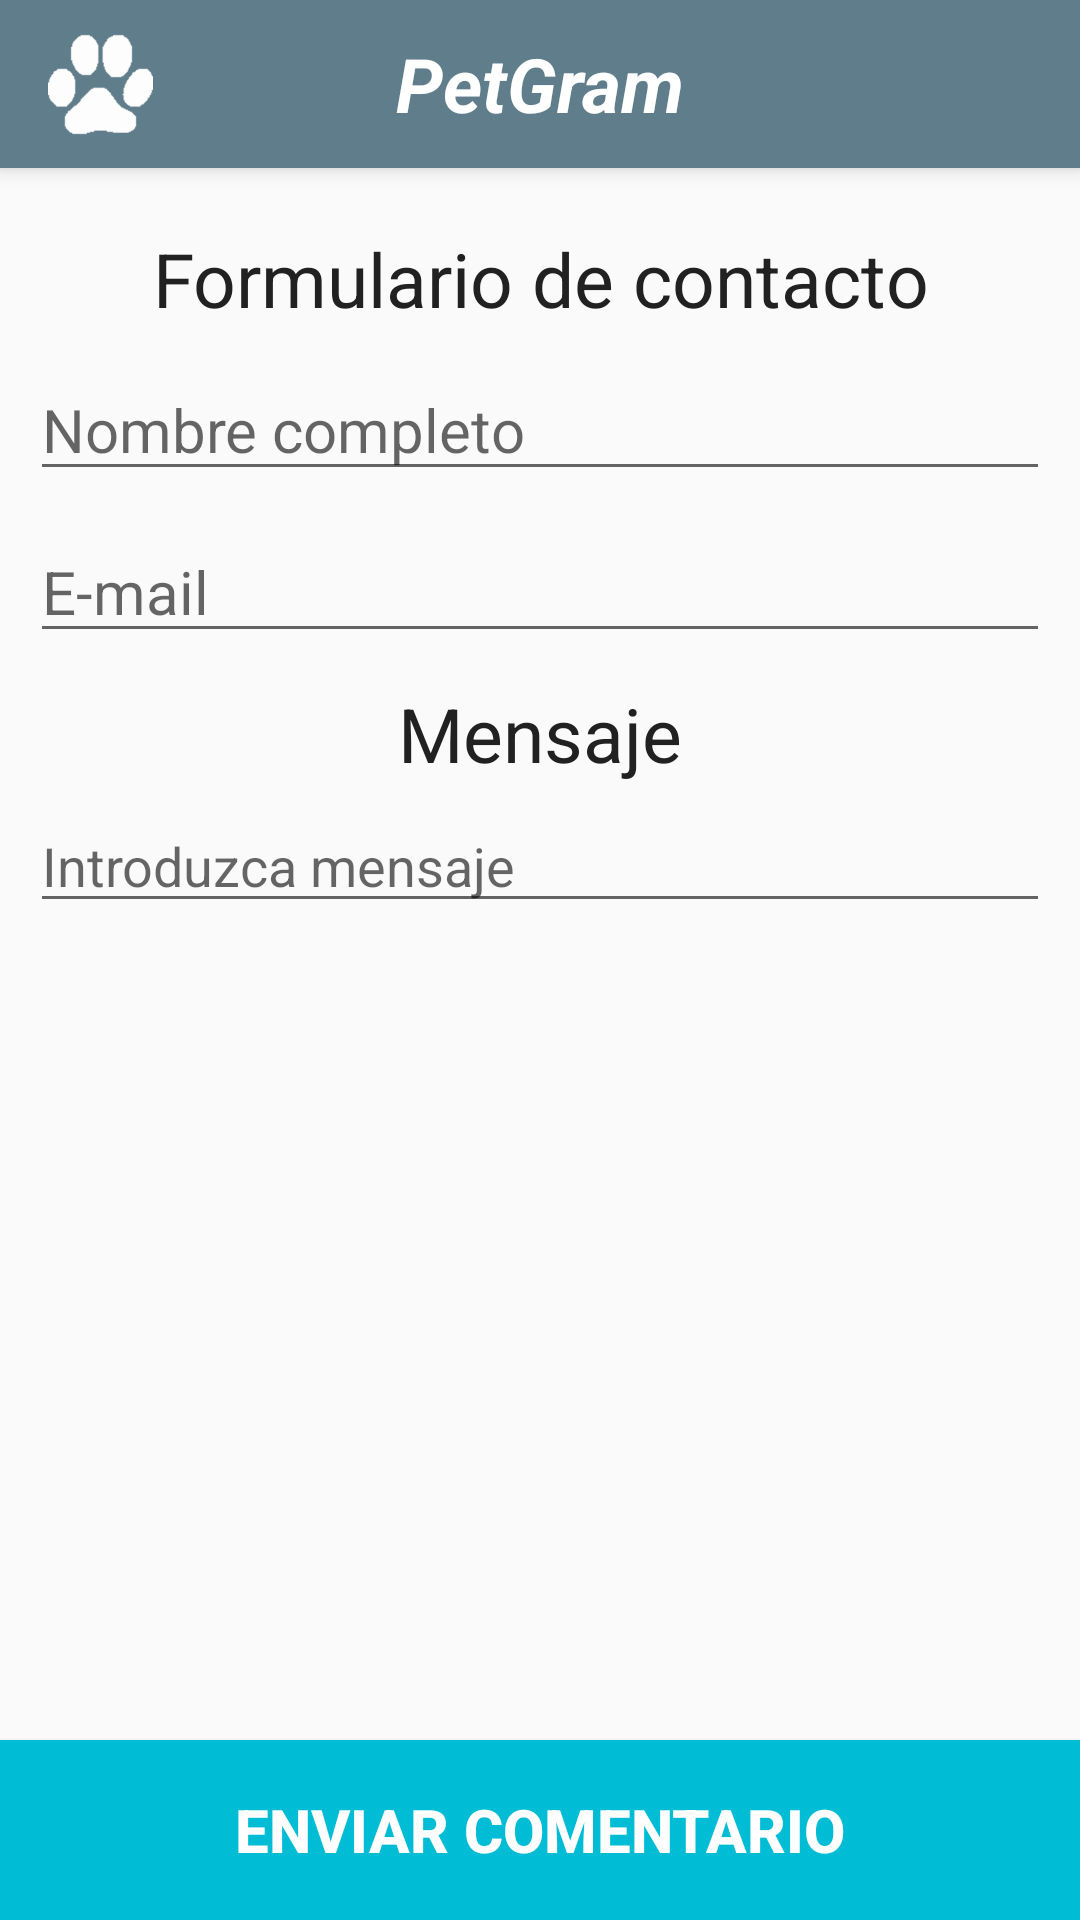

Icons on this 1080px x 1920px Android screen, each with its box as (x1, y1, x2, y2):
incono huella blanca: (48, 35, 153, 134)
